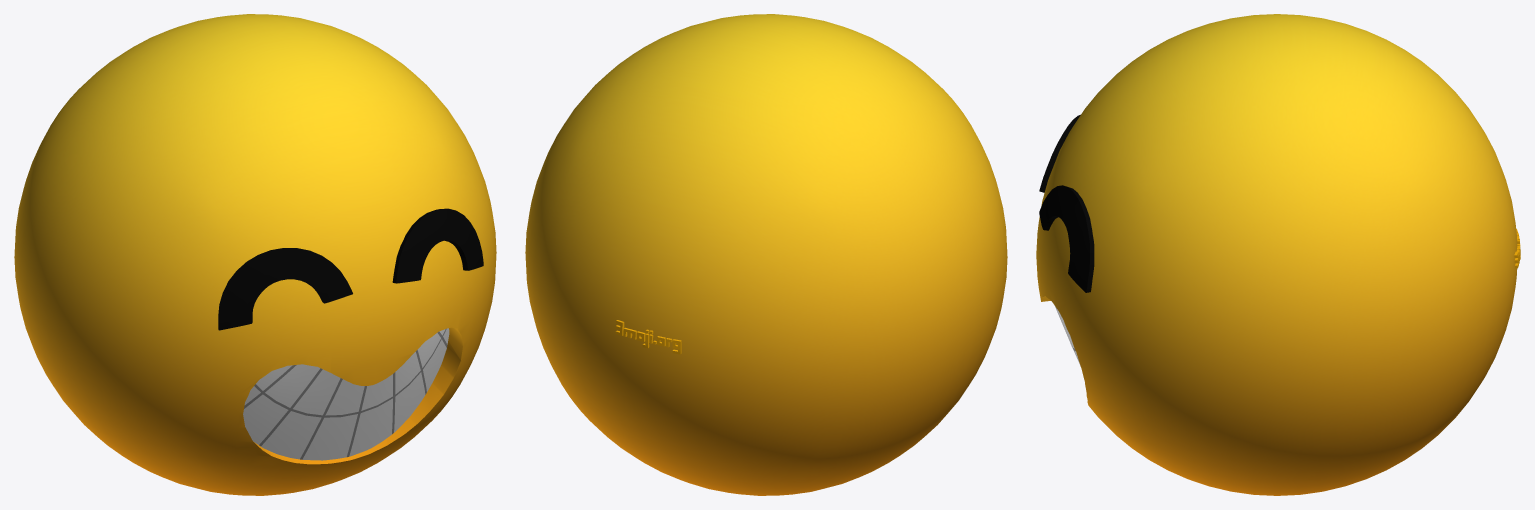
The model's file is beaming_face_with_smiling_eyes.gltf.
The picture shows the model from 3 angles, left to right: view 1: azimuth 30°, elevation 25°; view 2: azimuth 150°, elevation 25°; view 3: azimuth 270°, elevation 25°; orthographic projection.
Visible parts, largest first — view 1: Beaming Face with Smiling Eyes; view 2: Beaming Face with Smiling Eyes; view 3: Beaming Face with Smiling Eyes.
Boxes of the visible parts, x1=… form: Beaming Face with Smiling Eyes: x1=14, y1=14, x2=496, y2=495; Beaming Face with Smiling Eyes: x1=525, y1=14, x2=1007, y2=495; Beaming Face with Smiling Eyes: x1=1036, y1=14, x2=1520, y2=495.
Size of the model in its own units: 1.69 by 1.69 by 1.7.
Materials: 2 (2 with a texture image).
